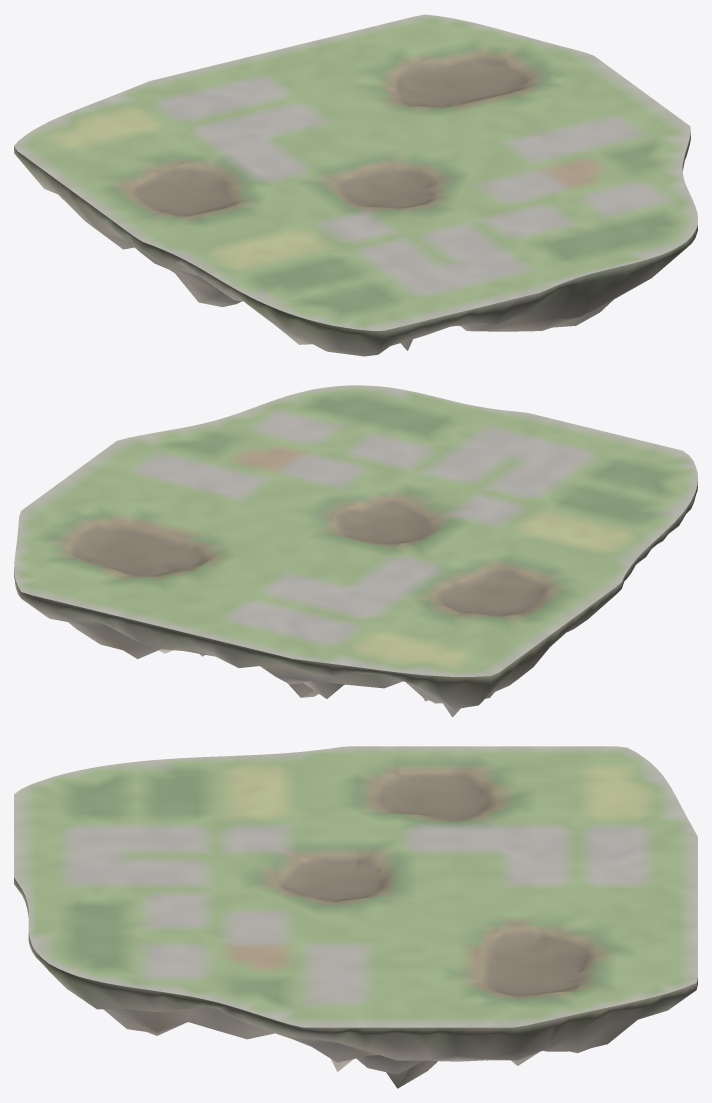
The model's file is SKY-081.rock.glb.
3 renders of one model, top to bottom at view 1: azimuth 30°, elevation 25°; view 2: azimuth 150°, elevation 25°; view 3: azimuth 270°, elevation 25°, orthographic. The views are drawn at different scales.
Visible parts, largest first — view 1: deck-col, rock; view 2: deck-col, rock; view 3: deck-col, rock.
Part boxes in pixels (box(x1,y1,x2,y2)): deck-col: box(14, 14, 697, 330); rock: box(14, 133, 697, 356); deck-col: box(14, 385, 697, 676); rock: box(14, 481, 697, 717); deck-col: box(14, 746, 697, 1027); rock: box(14, 877, 697, 1088).
Size of the model in its own units: 133 by 41.09 by 137.
